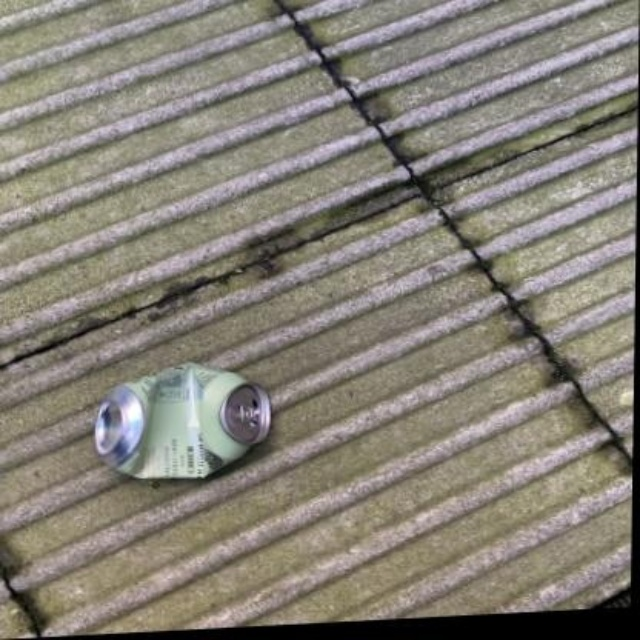trash: (94, 363, 269, 477)
